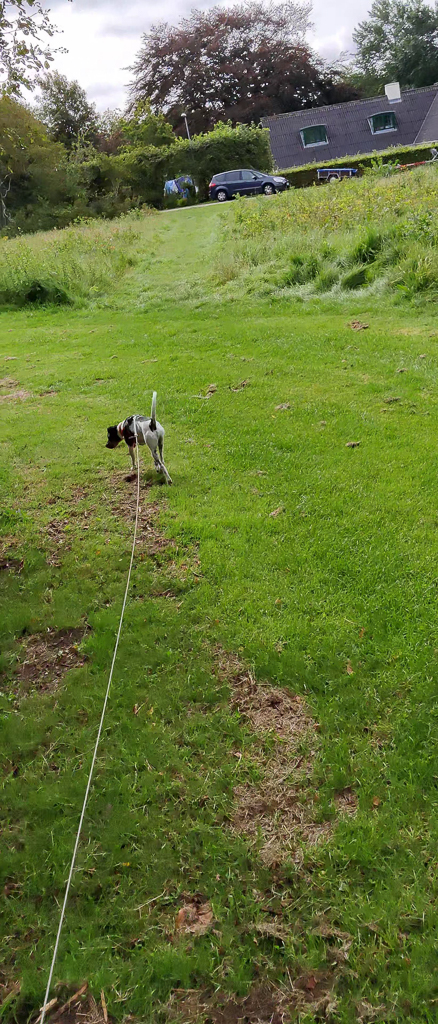Dog: (98, 387, 183, 489)
